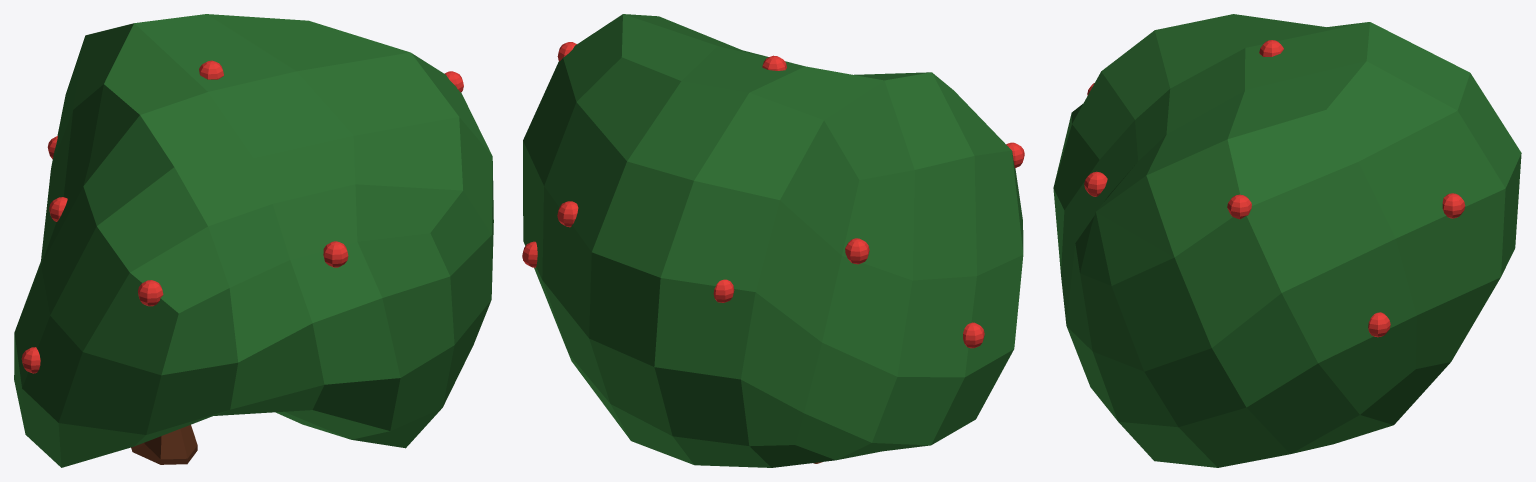
The model's file is BushDec.glb.
3 renders of one model, left to right at view 1: azimuth 30°, elevation 25°; view 2: azimuth 150°, elevation 25°; view 3: azimuth 270°, elevation 25°, orthographic. The views are drawn at different scales.
Visible parts, largest first — view 1: Sphere.004_cherry_0; view 2: Sphere.004_cherry_0; view 3: Sphere.004_cherry_0.
Part boxes in pixels (x1,y1,x2,y2): Sphere.004_cherry_0: [14, 14, 493, 467]; Sphere.004_cherry_0: [522, 14, 1024, 467]; Sphere.004_cherry_0: [1053, 14, 1521, 467].
Bounding box in the file's own units: 1.37 × 1.14 × 1.29.
